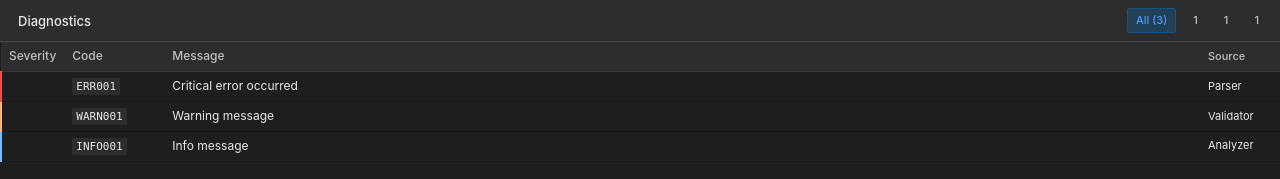
Test: DiagnosticsPanel filtering › should filter to show only errors
Click the 1st button "1" at (1194,21), box [1180, 8, 1207, 33]
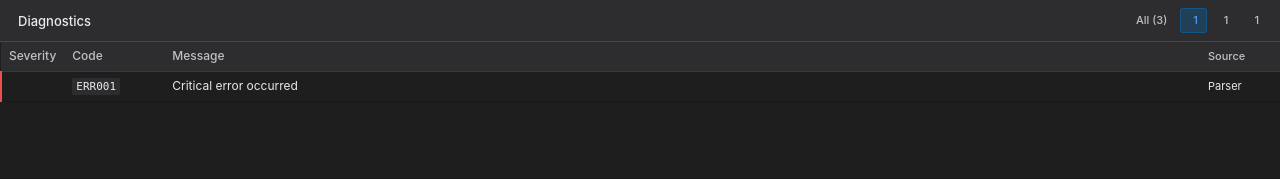
Expected: the text "Critical error occurred" is shown, [164, 72, 1200, 102]
Now the text "Warning message" is gone
